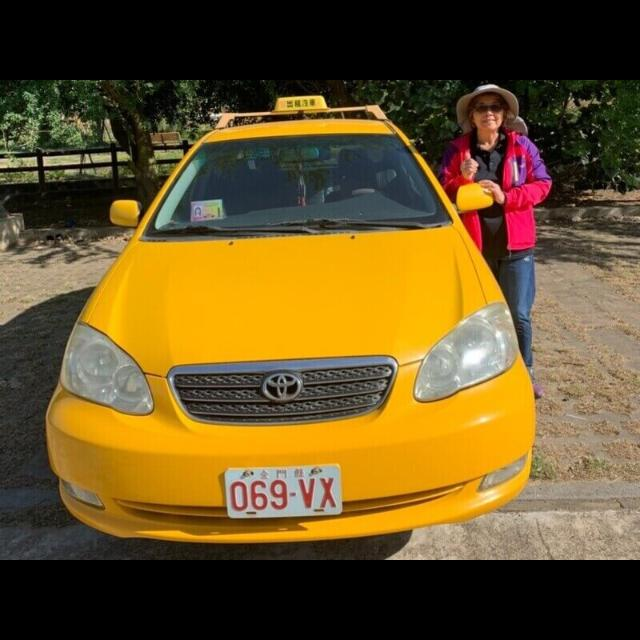plate: (224, 465, 343, 519)
